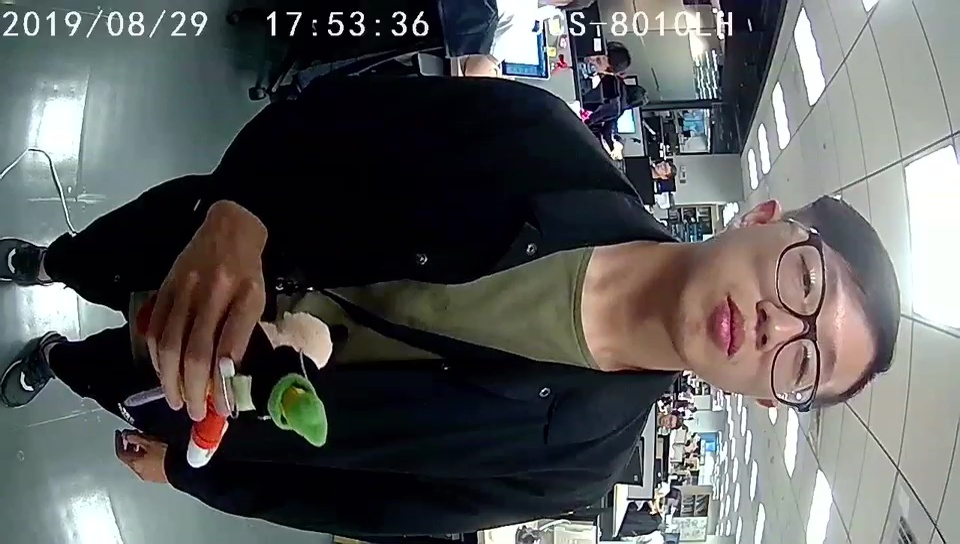goofy: (184, 309, 336, 467)
